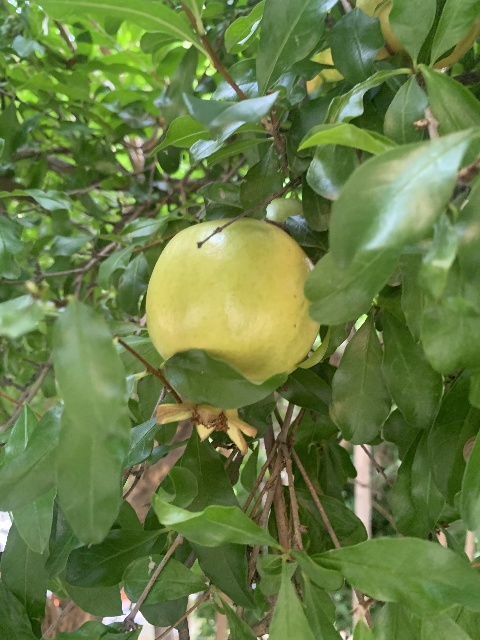mid-growth: (144, 216, 323, 458)
